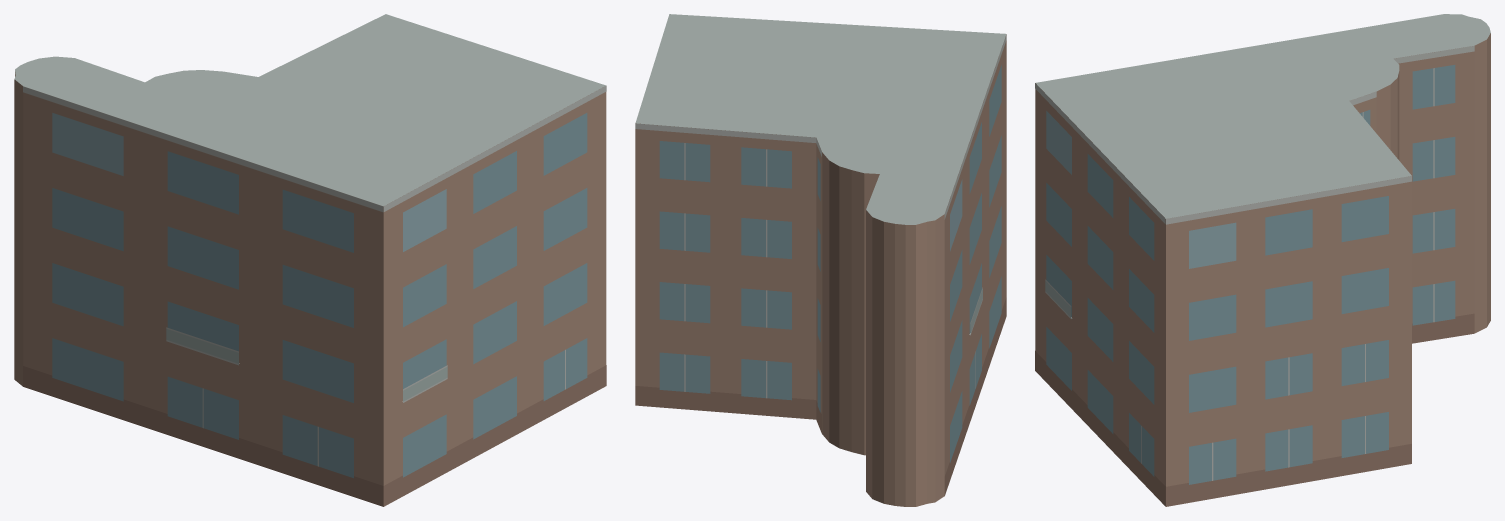
Rendered from survey-upis-32834852.glb.
The picture shows the model from 3 angles, left to right: view 1: azimuth 30°, elevation 25°; view 2: azimuth 150°, elevation 25°; view 3: azimuth 270°, elevation 25°; orthographic projection. The views are drawn at different scales.
Parts seen in each view (by area): view 1: survey-upis-32834852.tmp; view 2: survey-upis-32834852.tmp; view 3: survey-upis-32834852.tmp.
Part boxes in pixels (x1,y1,x2,y2): survey-upis-32834852.tmp: (14,14,606,506); survey-upis-32834852.tmp: (635,14,1006,506); survey-upis-32834852.tmp: (1035,14,1490,506).
Size of the model in its own units: 18.63 by 12.2 by 17.5.
